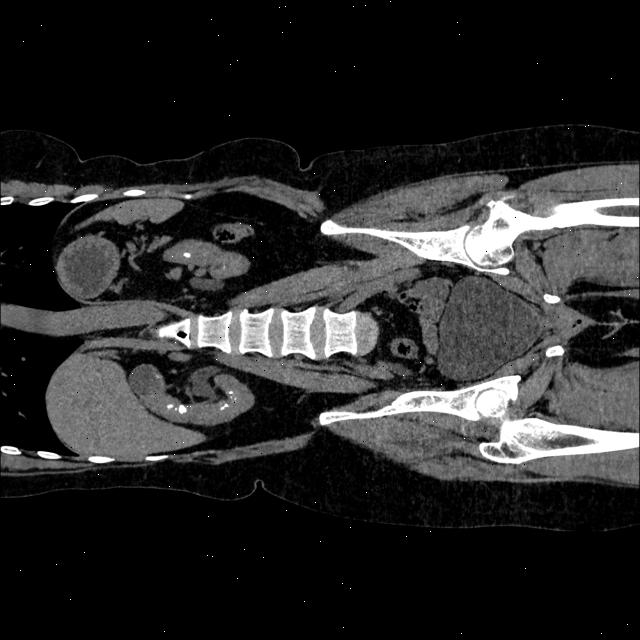kidneystone: (177, 404, 187, 414), (221, 402, 228, 409), (184, 251, 191, 258), (167, 402, 173, 409), (227, 390, 232, 394)
